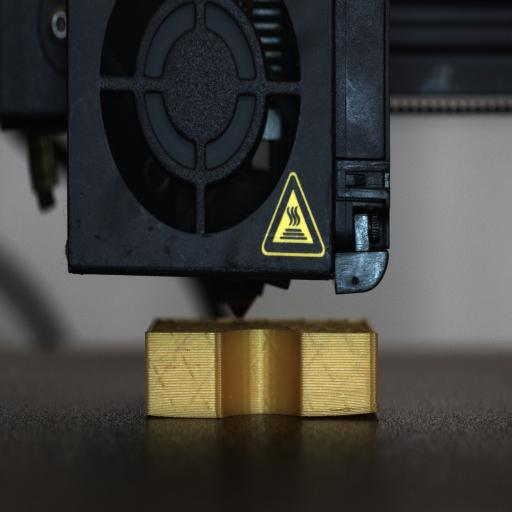warp: (318, 398, 382, 422)
